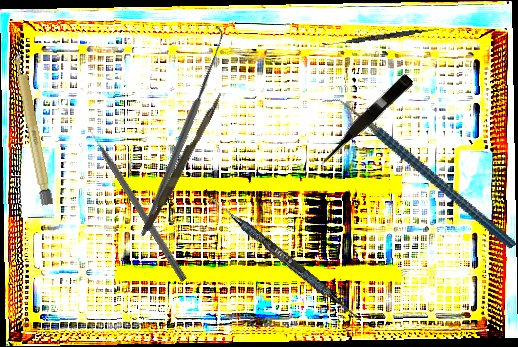Chopper: (320, 53, 517, 294)
Hook Surgical: (68, 25, 292, 237), (84, 122, 190, 283)
Micro Scissor: (314, 71, 415, 169)
Pusher: (142, 89, 224, 234)
Scalpel Handle: (12, 52, 54, 206)
Spatula Surgical: (198, 188, 367, 324), (322, 24, 439, 50)
